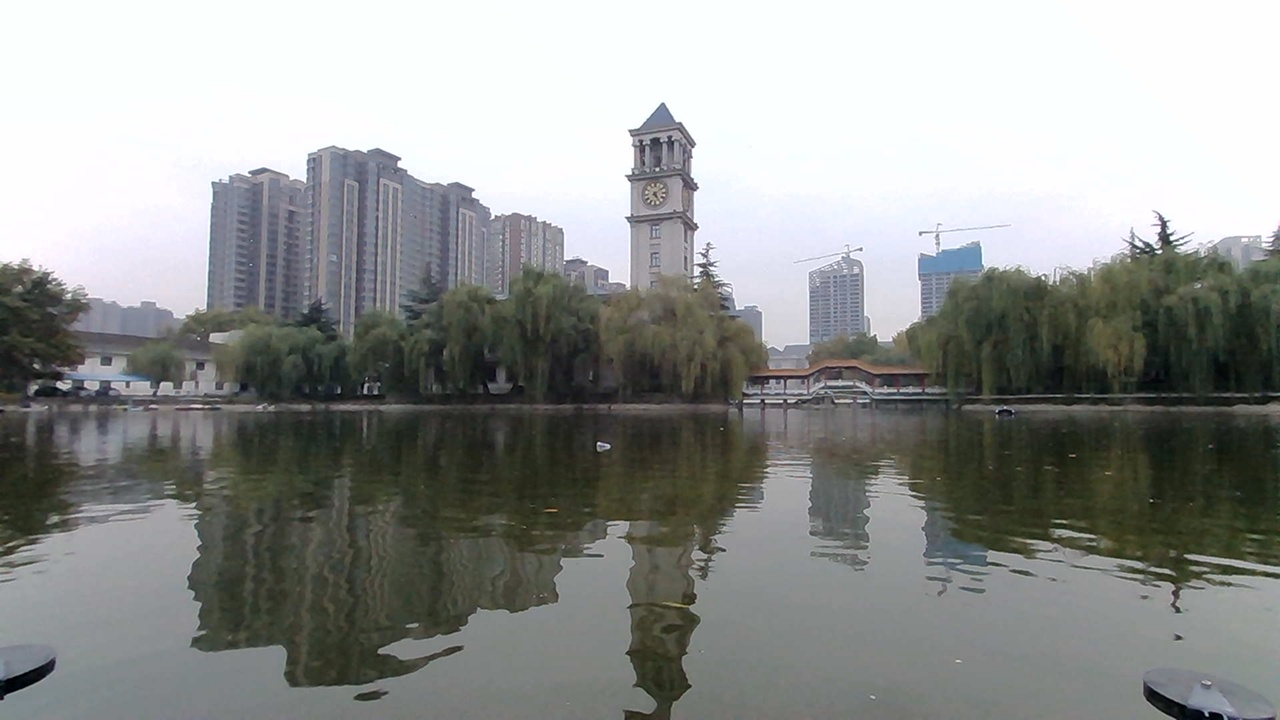bottle: (584, 426, 636, 464)
